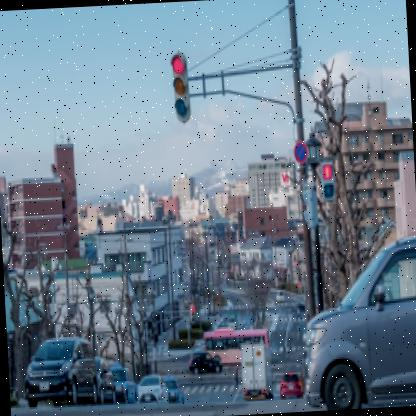trafficlight: (172, 46, 194, 121), (321, 158, 337, 198)
